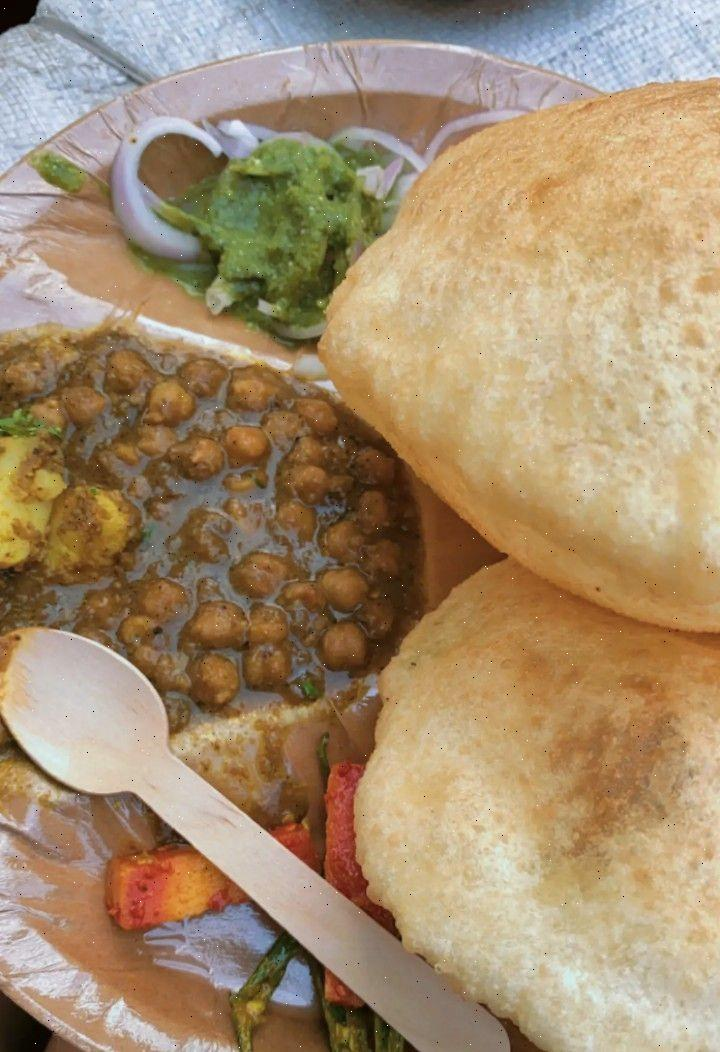chole: (19, 342, 380, 701)
puri: (397, 141, 720, 995)
salad: (85, 106, 406, 321), (97, 841, 359, 1023)
